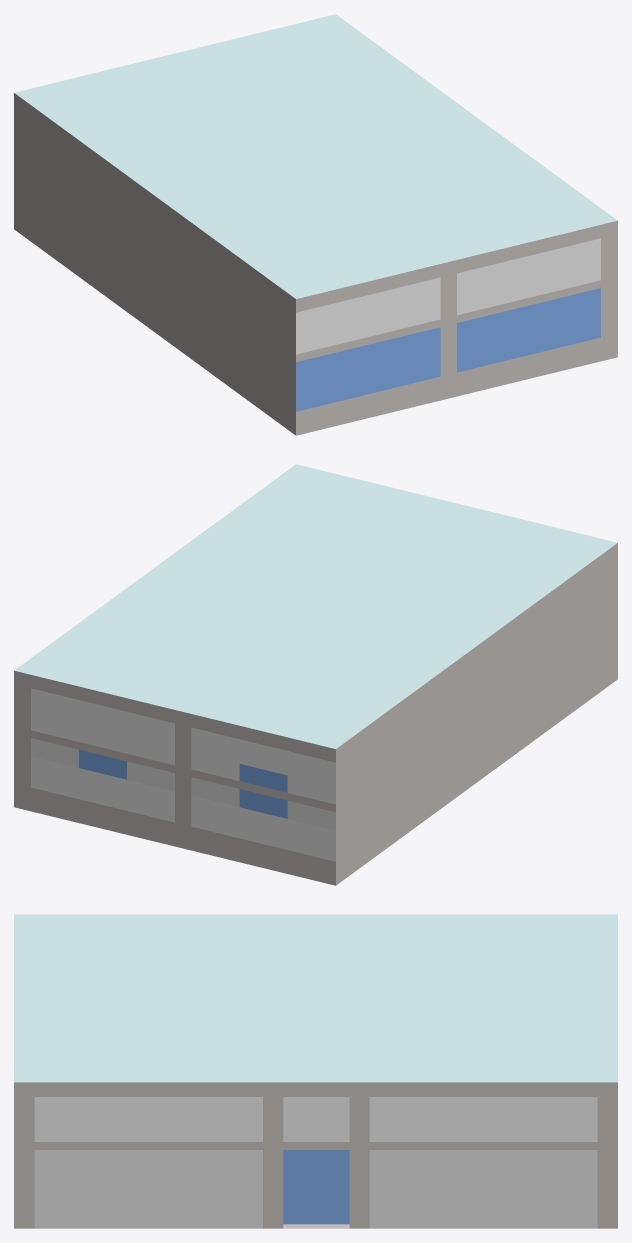
Rendered from piro.glb.
3 views of the same model, one above another, from view 1: azimuth 30°, elevation 25°; view 2: azimuth 150°, elevation 25°; view 3: azimuth 270°, elevation 25° (orthographic). The views are drawn at different scales.
Parts seen in each view (by area): view 1: 立方体.018; view 2: 立方体.018; view 3: 立方体.018.
Boxes of the visible parts, left/top/right/bottom form: 立方体.018: left=14, top=14, right=617, bottom=435; 立方体.018: left=14, top=464, right=617, bottom=885; 立方体.018: left=14, top=914, right=617, bottom=1228.
Bounding box in the file's own units: 4.04 × 1.64 × 6.14.
1 material, 1 textured.
